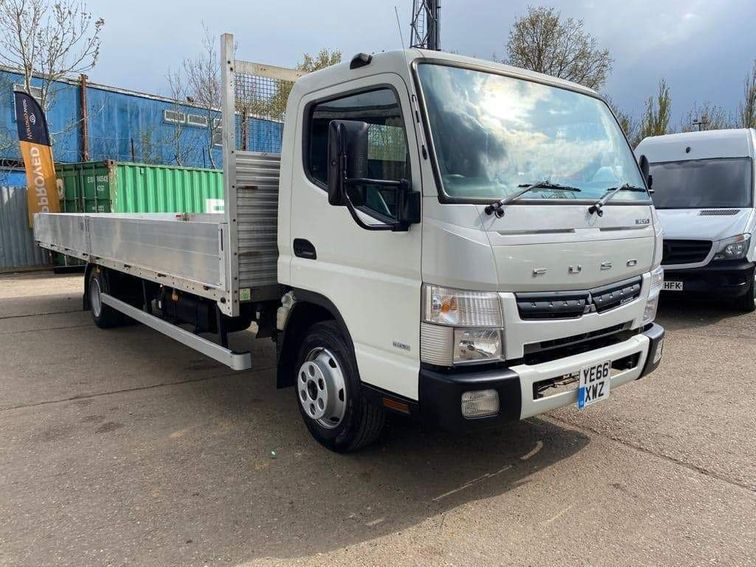Semi: (32, 48, 665, 454)
